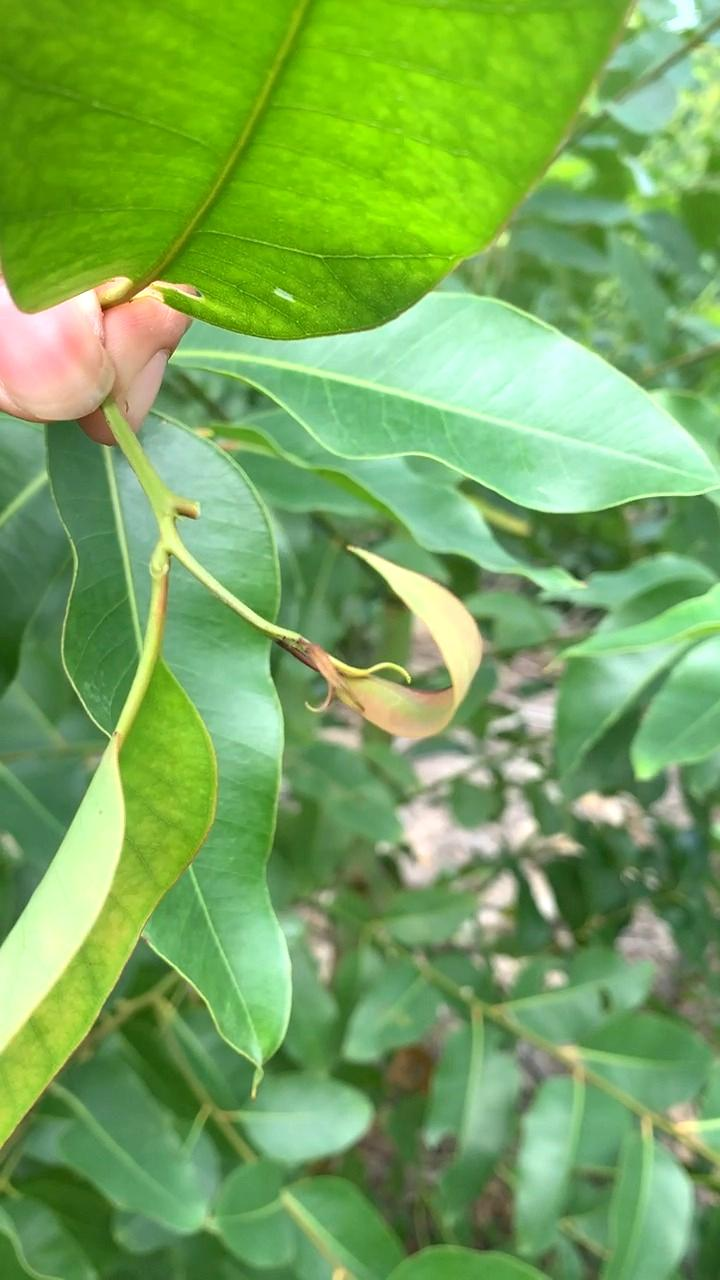Helopeltis-Withered Sprout: (273, 546, 489, 741)
